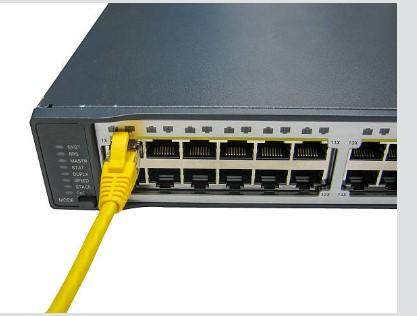NetworkSwitch: (29, 3, 397, 211)
